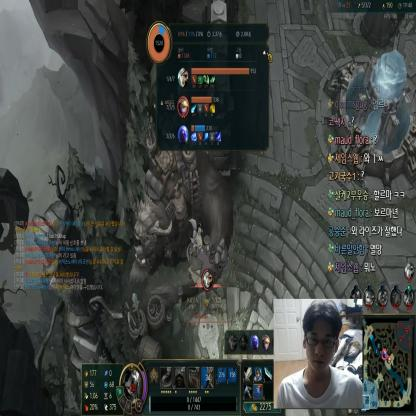streamer: (276, 302, 362, 408)
